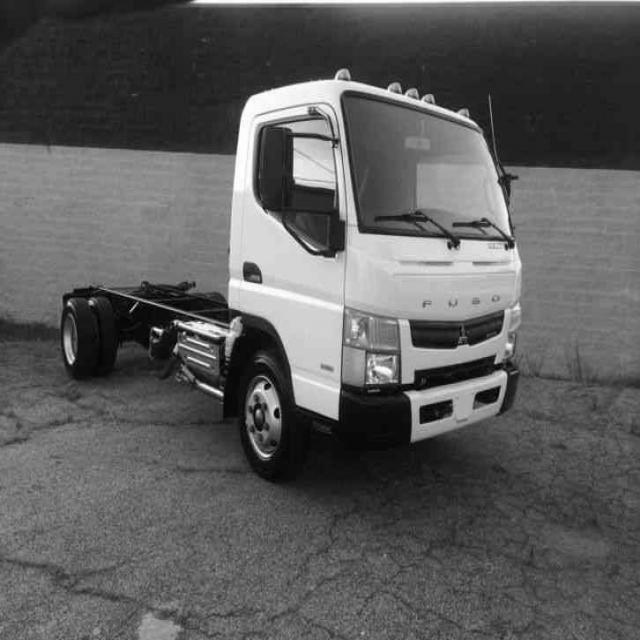truck: (176, 60, 562, 470)
